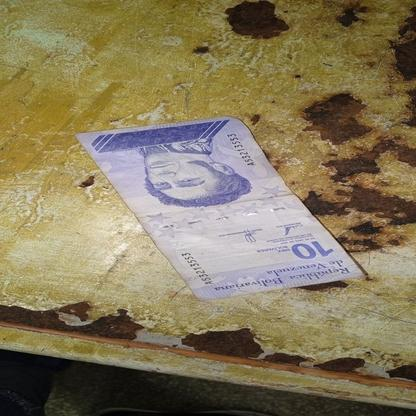ten-front-vef: (72, 117, 366, 302)
